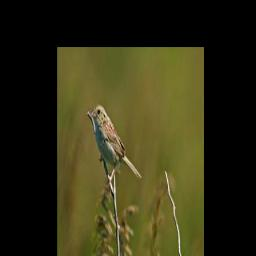Sparrow: (89, 103, 142, 190)
